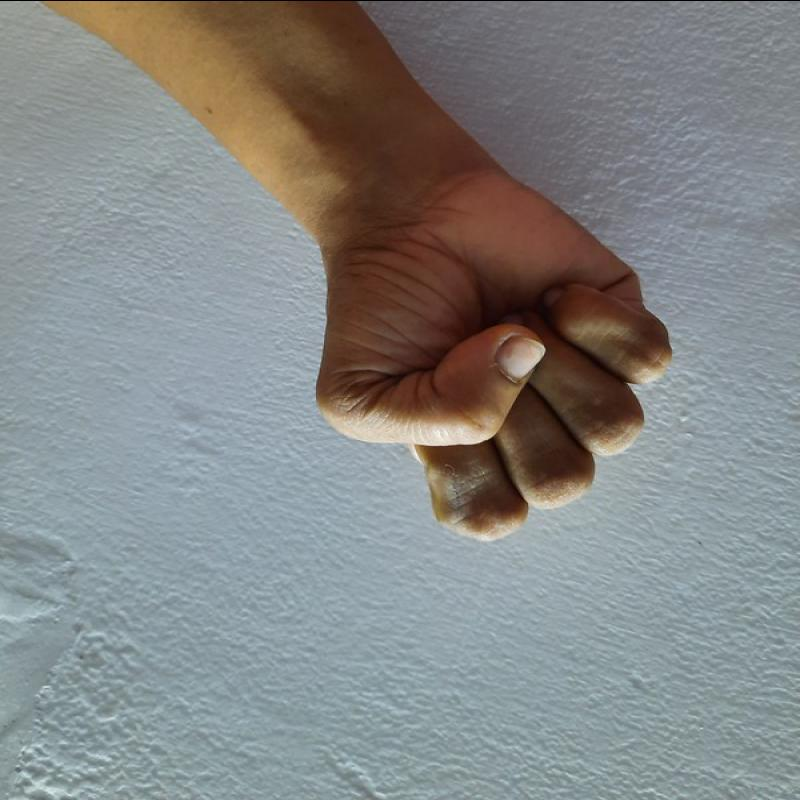Mushti: (294, 160, 691, 558)
